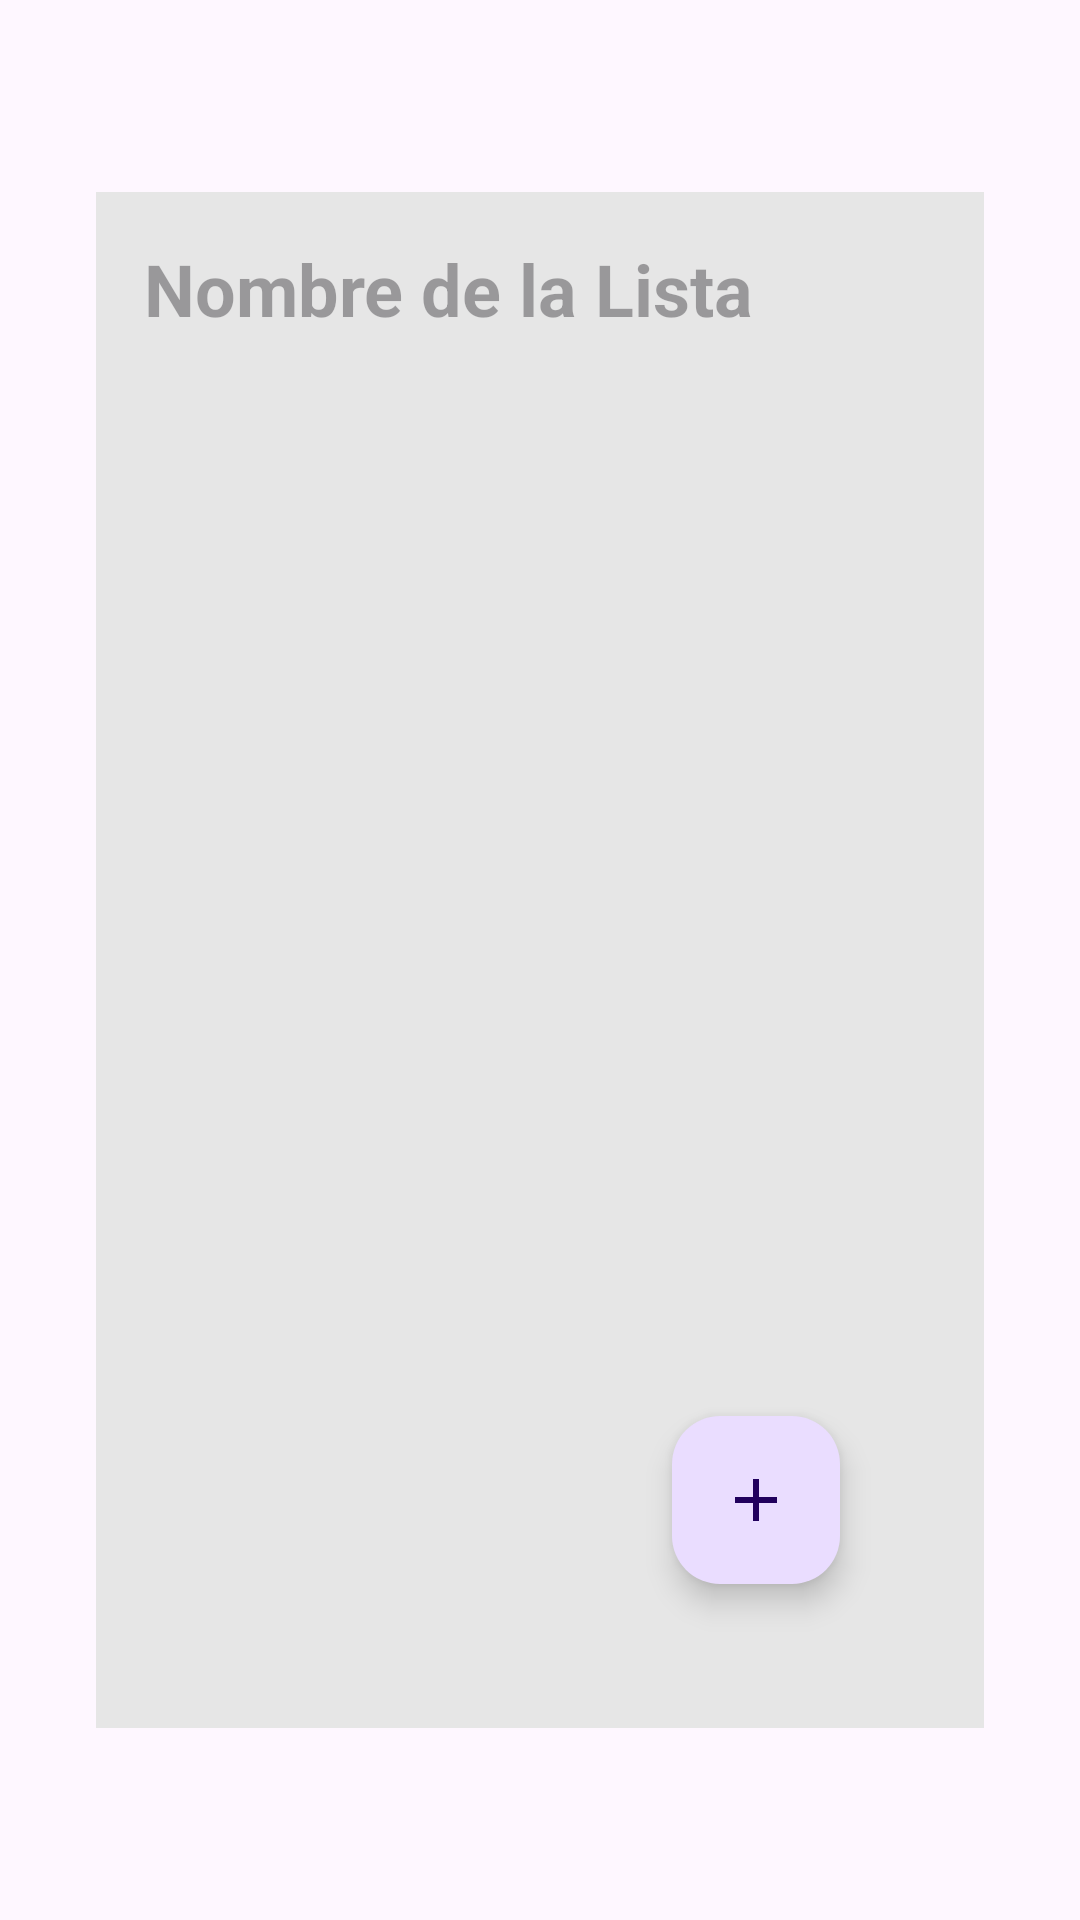

Point at icon controls on the screen. Image size 1080x1920, points as (x=x, y=y).
add: (x=756, y=1500)
